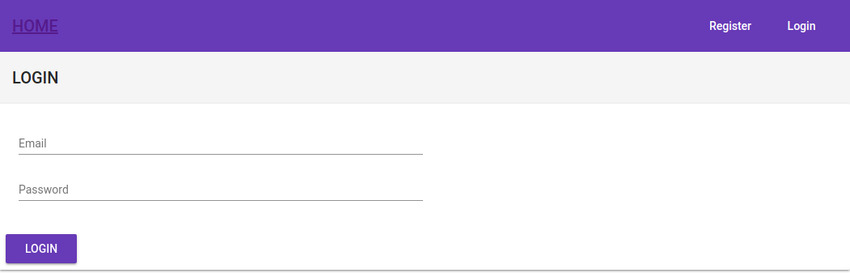button: (2, 232, 79, 264)
field: (17, 134, 424, 160), (16, 181, 425, 203)
